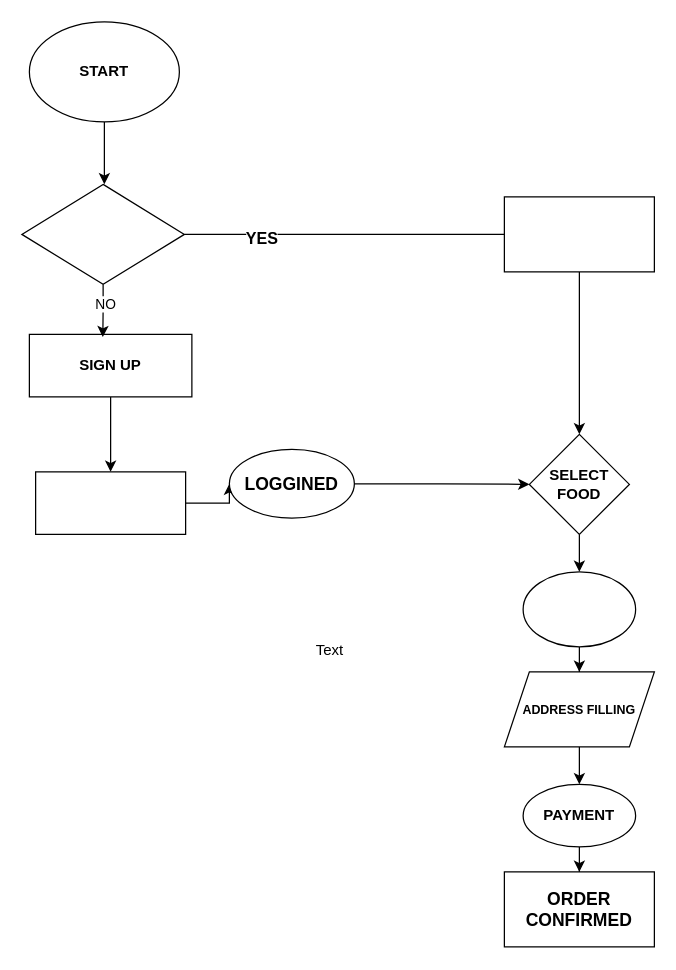
Image size: 676x970. Some labels were removed from this diagram. Each missing label, with the centre of its shape:
"ADD TO CART" goes at point (579, 609).
"LOGIN CREDENTIALS" goes at point (110, 502).
"NEW USER" goes at point (102, 233).
"SIGN IN" goes at point (578, 234).
